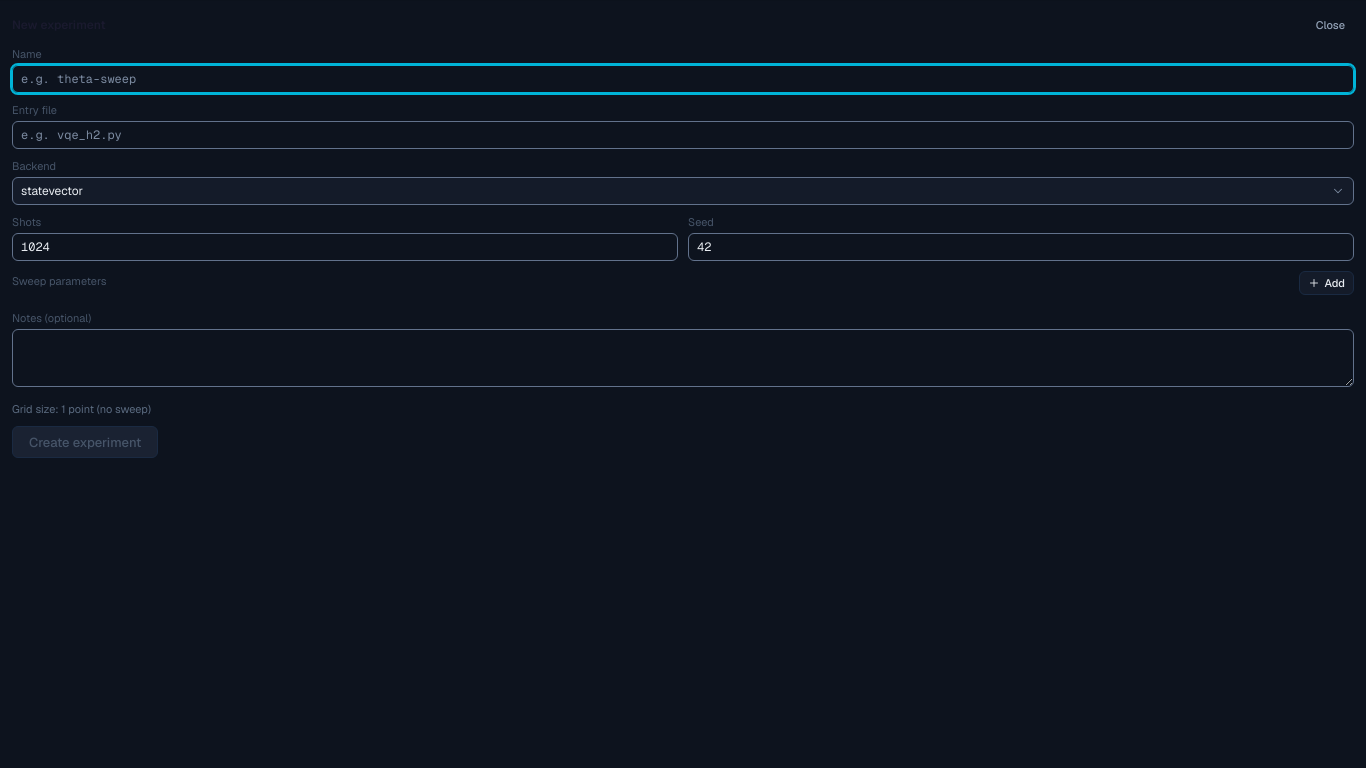
Test case: NewExperimentForm › flags unnamed sweep rows instead of silently ignoring them (research-r-09)
Click the button "Add" at (1327, 283), box [1299,271,1354,295]
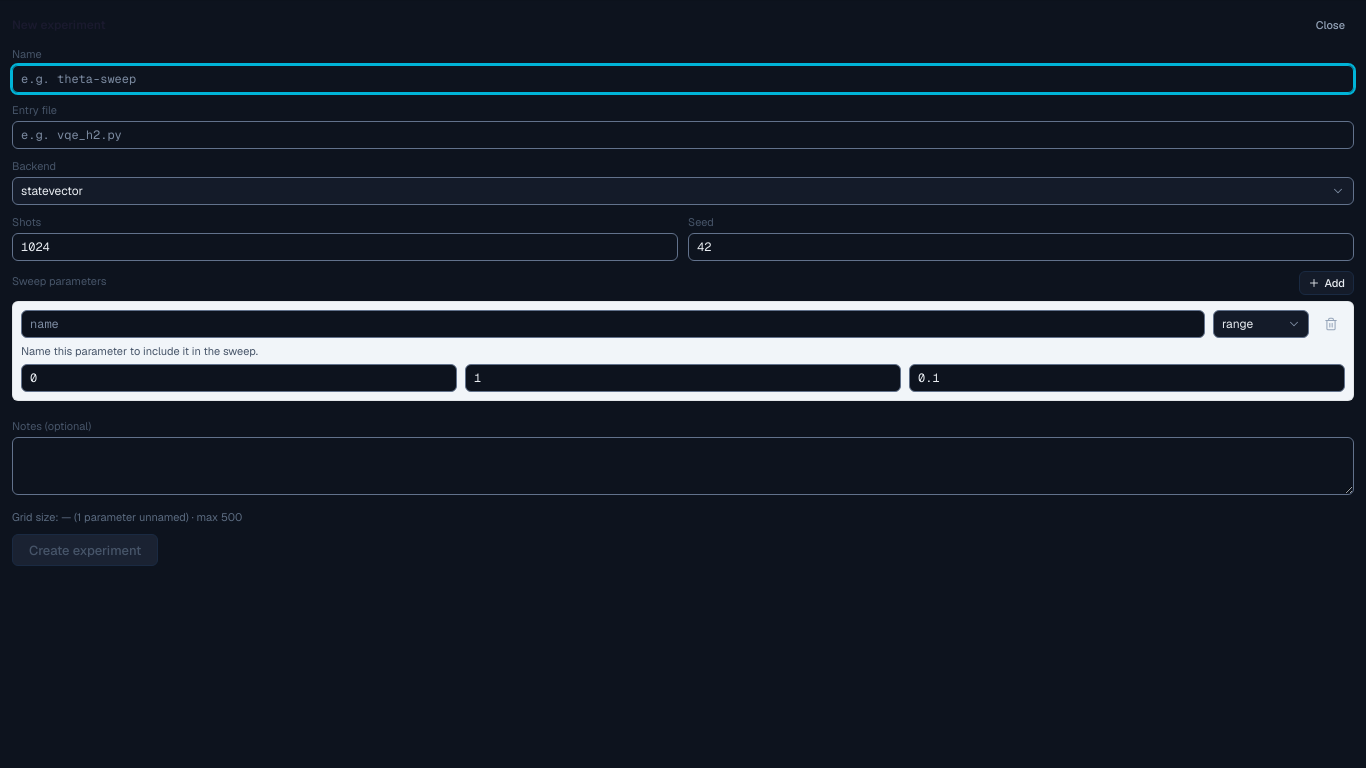
Click the button "Add" at (1327, 283), box [1299,271,1354,295]
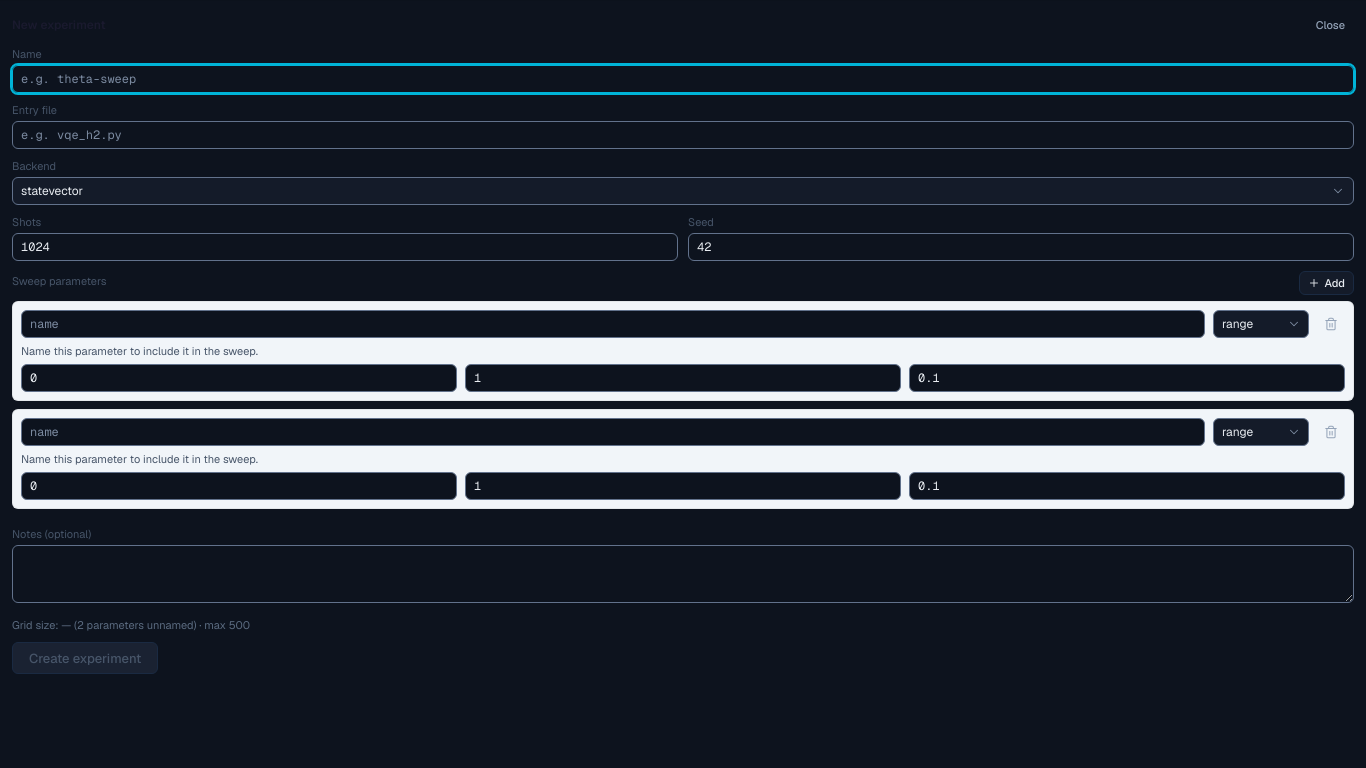
Expected: the text "Name this parameter to include it in the sweep." is shown 2 times, [21,344,258,358]; [21,452,258,466]
Expected: the text "Grid size: — (2 parameters unnamed) · max 500" is shown, [12,618,250,632]
